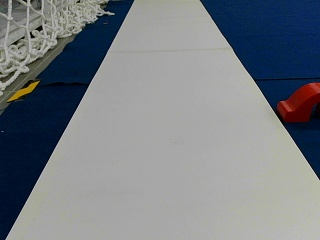bridge: (278, 82, 319, 119)
